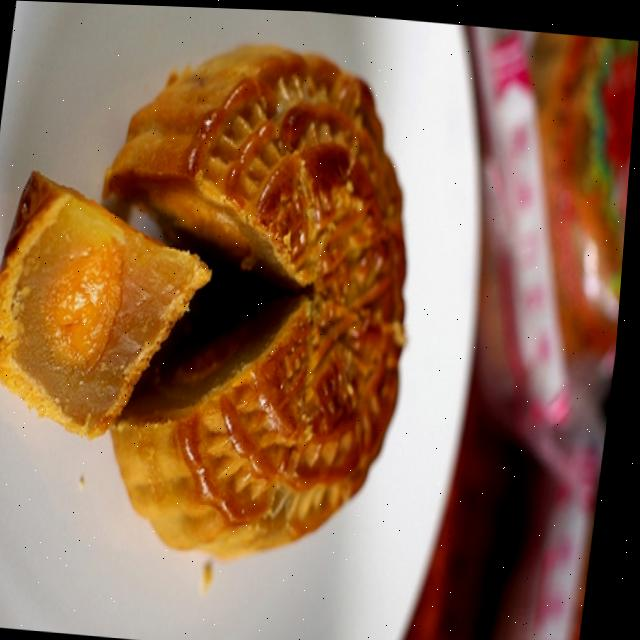蛋糕甜品: (0, 17, 477, 568)
